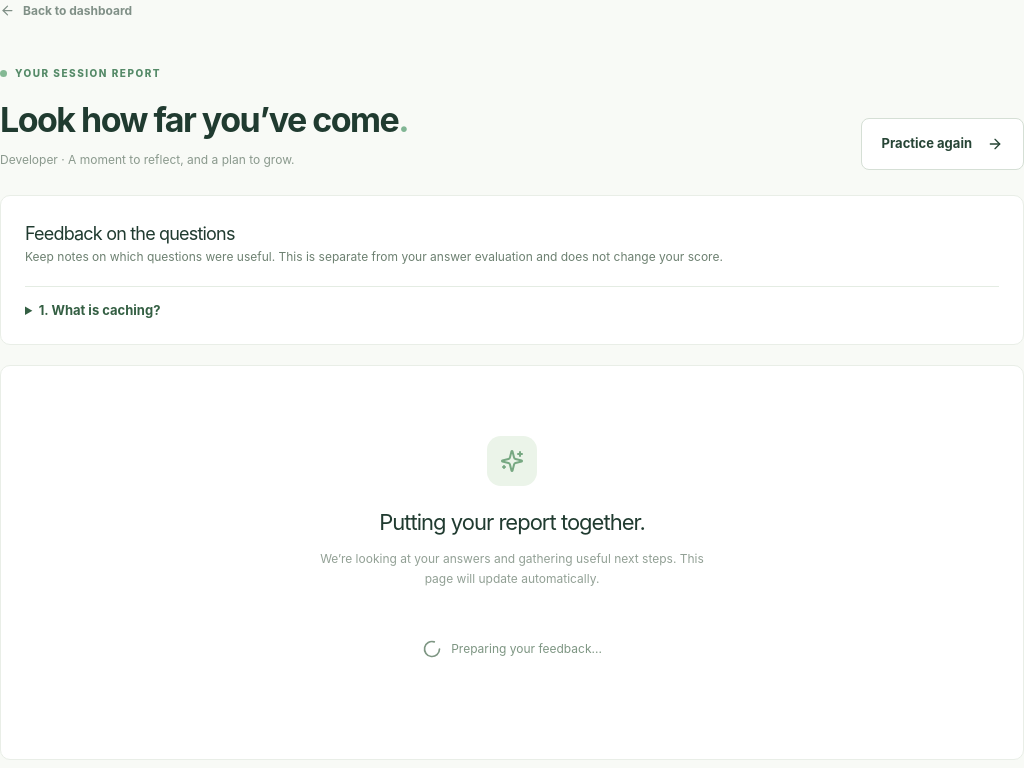
Test case: offers saved question feedback even while the report is pending
Click the heading "1. What is caching?". click: (100, 310)
box: [39,302,160,318]
(page scrolled)
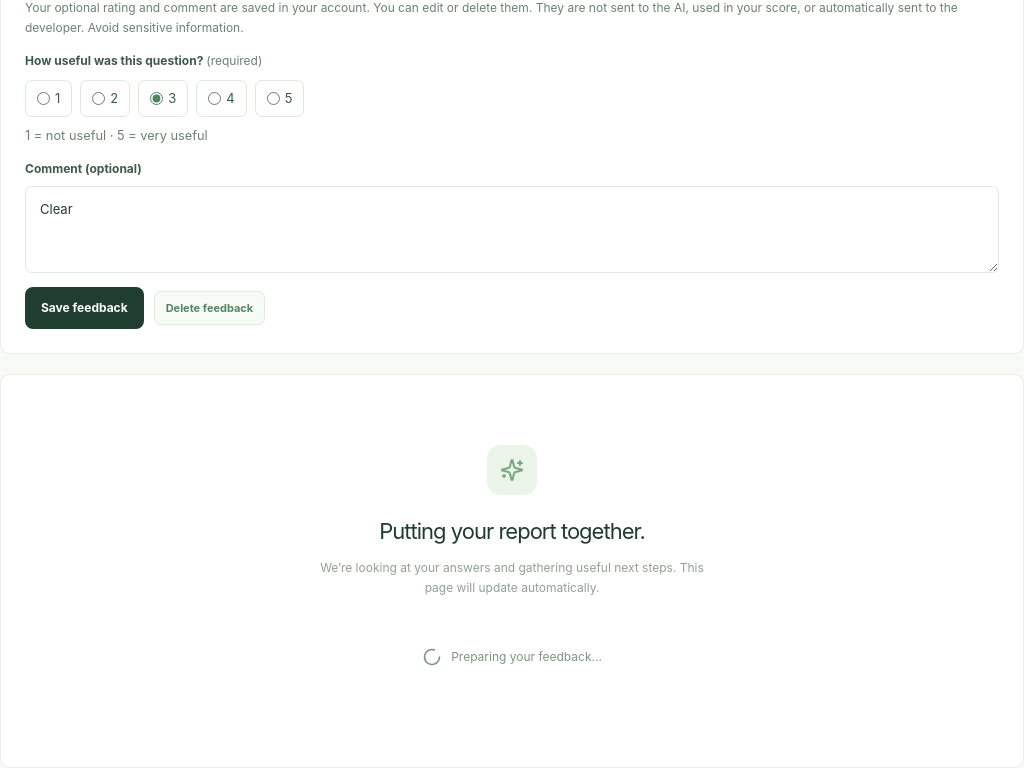
Expected: the heading "Putting your report together." is shown, [379,518,645,544]
Expected: the radio button labelled "3" is checked, [150,92,163,105]
Expected: the text box labelled "Comment (optional)" holds "Clear", [25,186,999,273]
